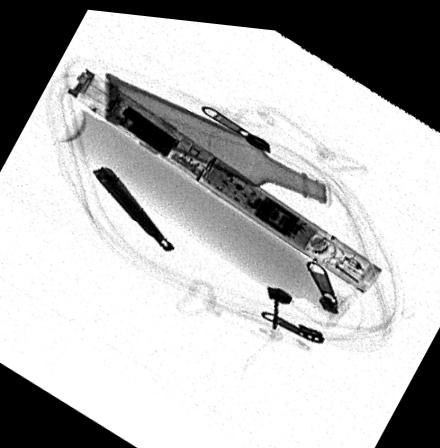Baton: (67, 67, 382, 285)
